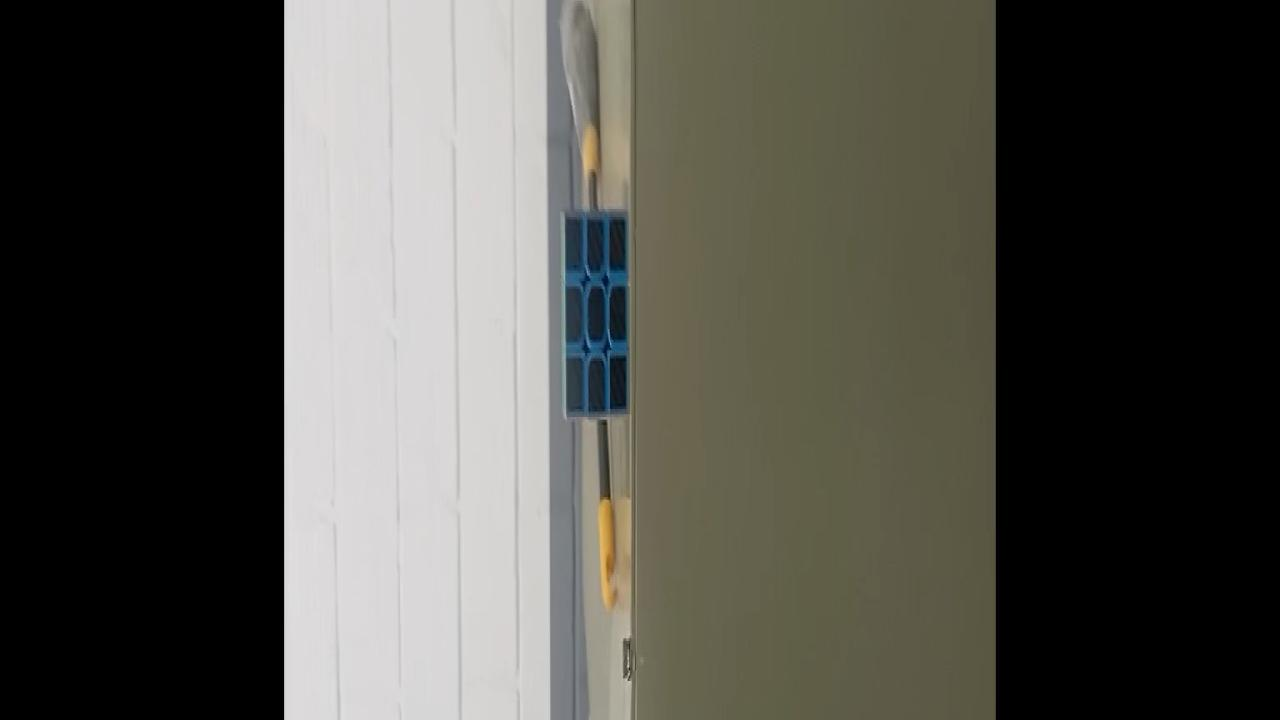Cube: (559, 208, 629, 426)
